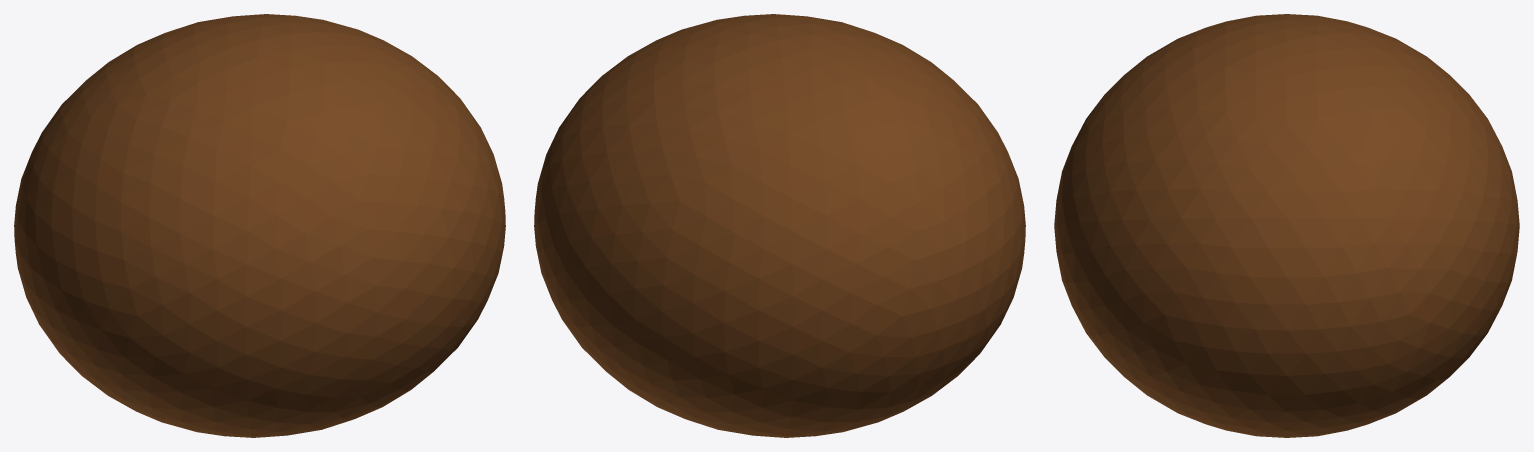
File: shoulder_left.obj
The picture shows the model from 3 angles, left to right: view 1: azimuth 30°, elevation 25°; view 2: azimuth 150°, elevation 25°; view 3: azimuth 270°, elevation 25°; orthographic projection.
Size of the model in its own units: 0.068 by 0.056 by 0.064.
